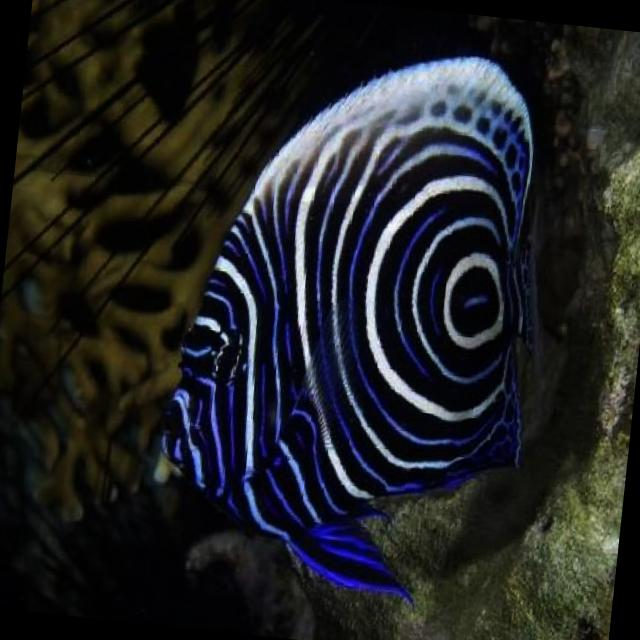AngelFish: (148, 31, 560, 618)
